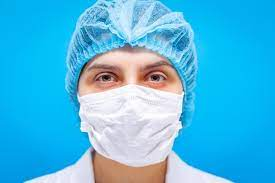with_mask_and_cap: (70, 1, 192, 166)
